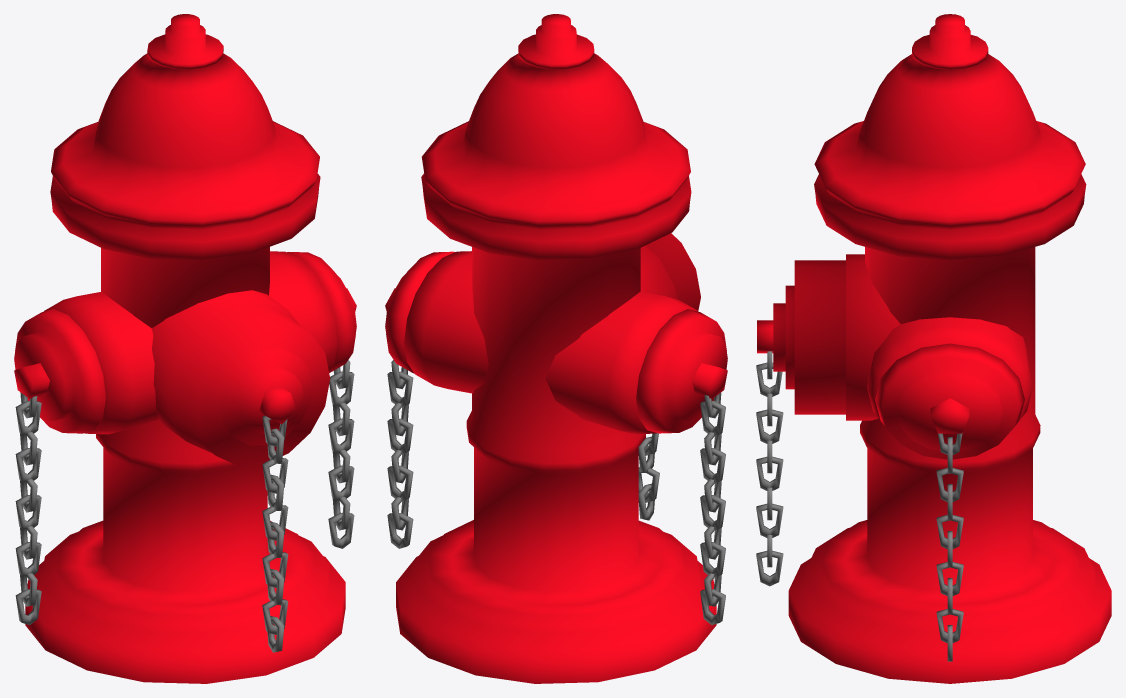
The model's file is HidrandeBase.fbx.
3 renders of one model, left to right at view 1: azimuth 30°, elevation 25°; view 2: azimuth 150°, elevation 25°; view 3: azimuth 270°, elevation 25°, orthographic.
Parts seen in each view (by area): view 1: HidrandeBase; view 2: HidrandeBase; view 3: HidrandeBase.
Part boxes in pixels (left/top/right/bottom): HidrandeBase: left=14, top=14, right=356, bottom=683; HidrandeBase: left=385, top=14, right=727, bottom=683; HidrandeBase: left=756, top=14, right=1111, bottom=683.
Bounding box in the file's own units: 40.51 × 68.64 × 37.13.
